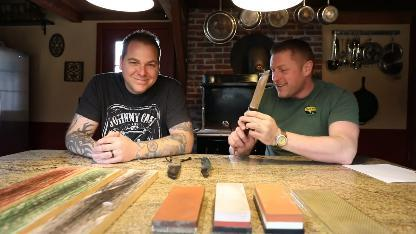knife: (234, 66, 274, 124)
